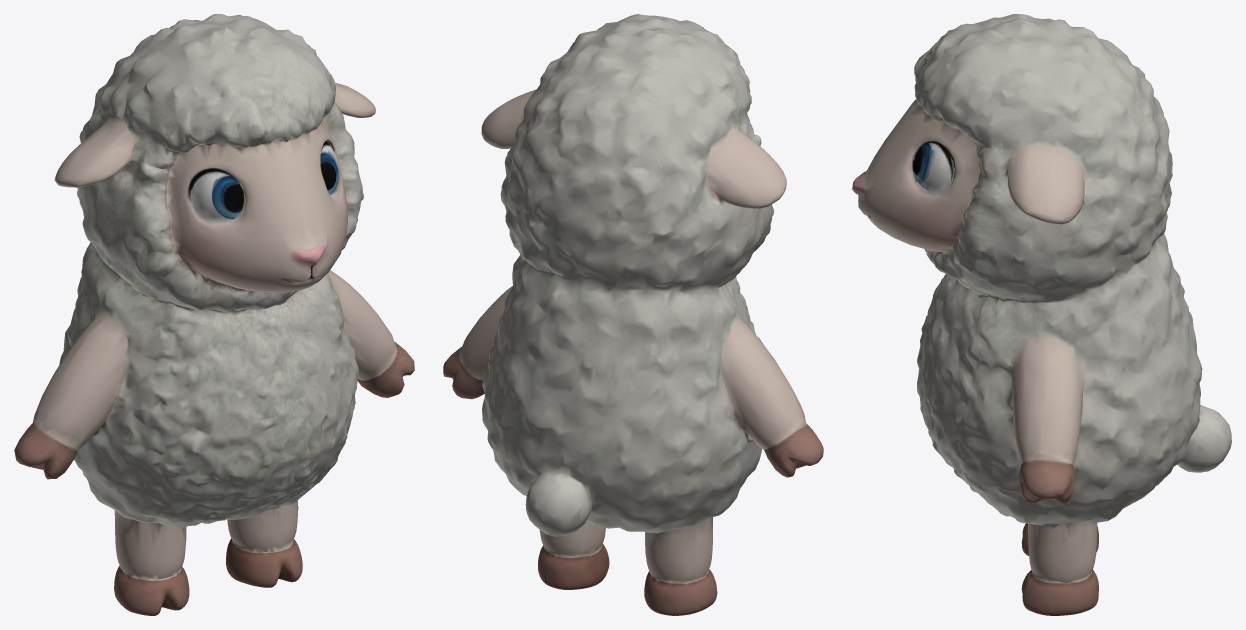
File: sheep.glb
3 views of the same model, side by side, from view 1: azimuth 30°, elevation 25°; view 2: azimuth 150°, elevation 25°; view 3: azimuth 270°, elevation 25° (orthographic). The views are drawn at different scales.
Parts seen in each view (by area): view 1: tripo_node_8e2b465d-4606-4124-933a-c4383cb1fbc0; view 2: tripo_node_8e2b465d-4606-4124-933a-c4383cb1fbc0; view 3: tripo_node_8e2b465d-4606-4124-933a-c4383cb1fbc0.
Part boxes in pixels (x1,y1,x2,y2): tripo_node_8e2b465d-4606-4124-933a-c4383cb1fbc0: (14, 14, 414, 615); tripo_node_8e2b465d-4606-4124-933a-c4383cb1fbc0: (443, 14, 823, 615); tripo_node_8e2b465d-4606-4124-933a-c4383cb1fbc0: (852, 14, 1231, 615).
Size of the model in its own units: 0.7052 by 0.9796 by 0.6104.
1 material, 1 textured.
